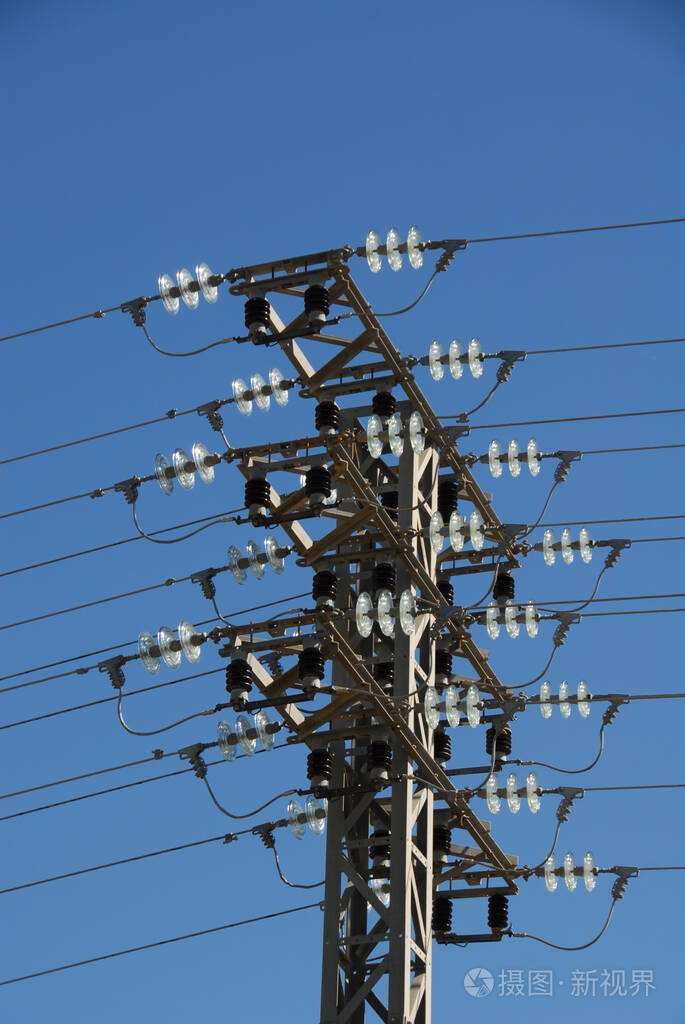insulator: (354, 589, 424, 643), (135, 622, 205, 673), (212, 712, 281, 761), (155, 262, 220, 314), (364, 225, 426, 279), (420, 683, 488, 732), (361, 413, 430, 459), (153, 443, 212, 494), (225, 536, 286, 585), (425, 508, 486, 556), (538, 849, 598, 895), (480, 599, 540, 644), (228, 371, 292, 413), (483, 771, 542, 816), (427, 336, 482, 384), (483, 435, 540, 480), (539, 528, 599, 568), (530, 681, 593, 718), (286, 799, 327, 839)
